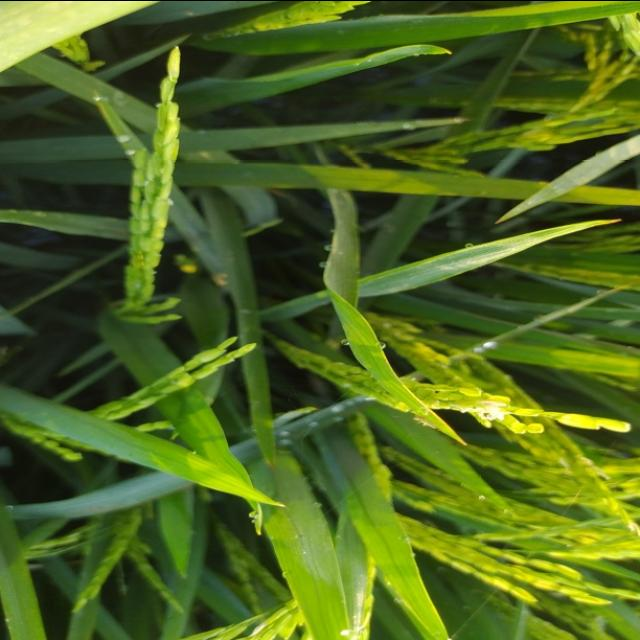Hawar Daun Bakteri: (264, 455, 282, 480)
